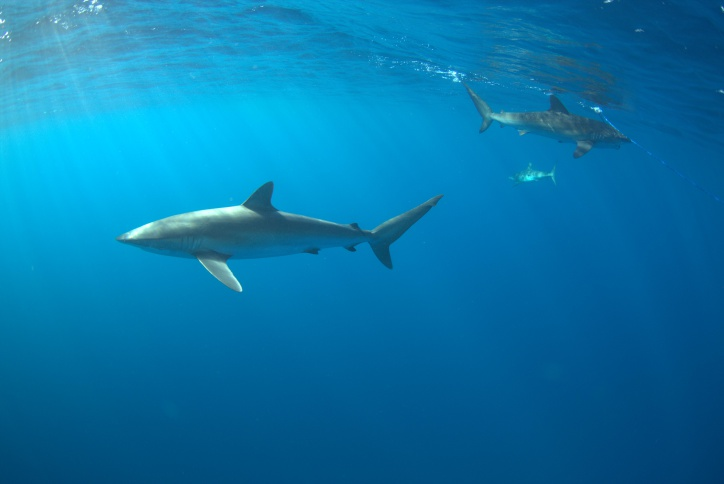Sedoso: (105, 173, 461, 307)
